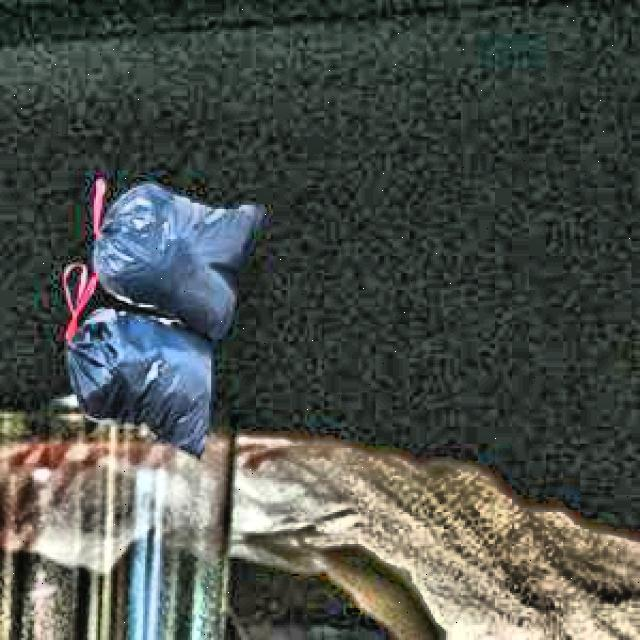Trashbag: (61, 301, 222, 459), (99, 185, 268, 325)
